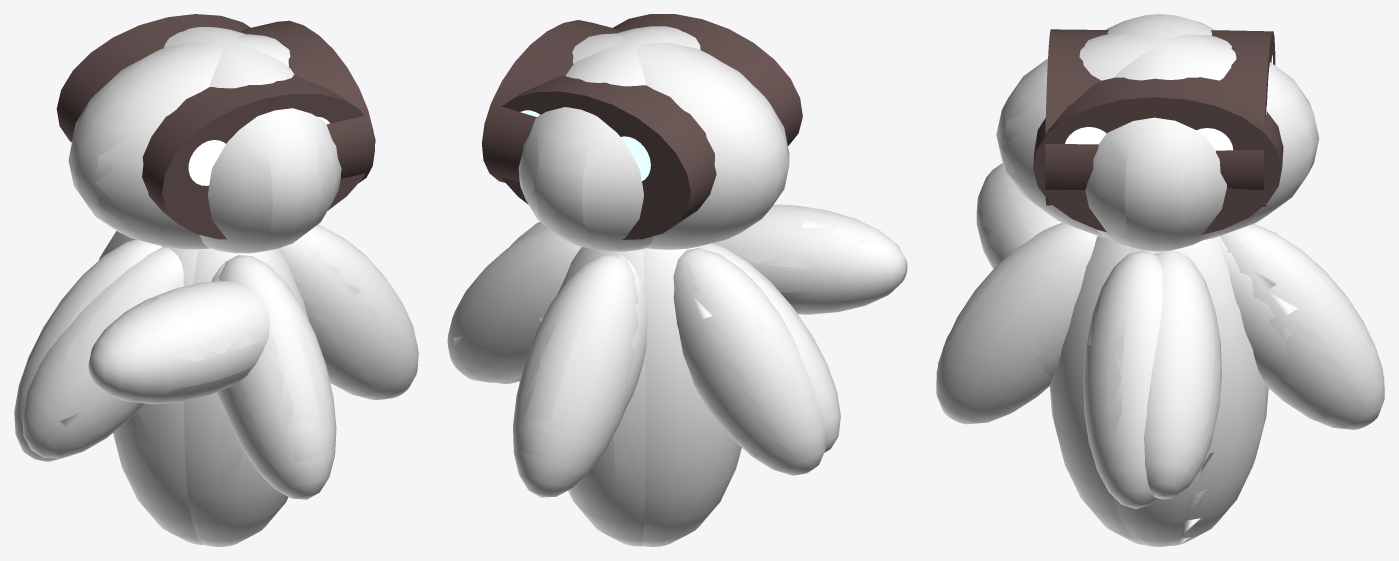
The model's file is Player.glb.
3 renders of one model, left to right at view 1: azimuth 30°, elevation 25°; view 2: azimuth 150°, elevation 25°; view 3: azimuth 270°, elevation 25°, orthographic. The views are drawn at different scales.
Visible parts, largest first — view 1: SketchUp.001, SketchUp.009, SketchUp.007, SketchUp.040, SketchUp.033, SketchUp.032, SketchUp.041, SketchUp.038, SketchUp.013, SketchUp.002, SketchUp.036, SketchUp.044 (+3 smaller); view 2: SketchUp.044, SketchUp.006, SketchUp.001, SketchUp.013, SketchUp.009, SketchUp.036, SketchUp.045, SketchUp.037, SketchUp.039, SketchUp.040, SketchUp.002, SketchUp.041 (+3 smaller); view 3: SketchUp.007, SketchUp.037, SketchUp.006, SketchUp.033, SketchUp.001, SketchUp.045, SketchUp.002, SketchUp.039, SketchUp.038, SketchUp.041, SketchUp.036, SketchUp.009 (+5 smaller).
Boxes of the visible parts, x1=… form: SketchUp.001: x1=164, y1=27, x2=341, y2=253; SketchUp.009: x1=88, y1=281, x2=270, y2=404; SketchUp.007: x1=219, y1=255, x2=336, y2=499; SketchUp.040: x1=69, y1=46, x2=288, y2=249; SketchUp.033: x1=278, y1=224, x2=418, y2=400; SketchUp.032: x1=22, y1=247, x2=183, y2=458; SketchUp.041: x1=142, y1=74, x2=375, y2=239; SketchUp.038: x1=184, y1=248, x2=308, y2=546; SketchUp.013: x1=113, y1=246, x2=204, y2=544; SketchUp.002: x1=239, y1=20, x2=374, y2=182; SketchUp.036: x1=56, y1=14, x2=250, y2=142; SketchUp.044: x1=14, y1=239, x2=161, y2=461; SketchUp.044: x1=673, y1=248, x2=825, y2=475; SketchUp.006: x1=513, y1=254, x2=638, y2=497; SketchUp.001: x1=518, y1=26, x2=700, y2=251; SketchUp.013: x1=642, y1=247, x2=741, y2=546; SketchUp.009: x1=713, y1=204, x2=907, y2=314; SketchUp.036: x1=501, y1=75, x2=716, y2=239; SketchUp.045: x1=447, y1=227, x2=581, y2=382; SketchUp.037: x1=572, y1=33, x2=759, y2=249; SketchUp.039: x1=558, y1=247, x2=645, y2=546; SketchUp.040: x1=611, y1=33, x2=789, y2=239; SketchUp.002: x1=481, y1=20, x2=621, y2=182; SketchUp.041: x1=613, y1=14, x2=802, y2=145; SketchUp.007: x1=936, y1=222, x2=1097, y2=424; SketchUp.037: x1=1085, y1=15, x2=1226, y2=251; SketchUp.006: x1=1220, y1=224, x2=1384, y2=429; SketchUp.033: x1=1083, y1=250, x2=1163, y2=508; SketchUp.001: x1=996, y1=33, x2=1319, y2=239; SketchUp.045: x1=1144, y1=250, x2=1221, y2=499; SketchUp.002: x1=1033, y1=77, x2=1283, y2=234; SketchUp.039: x1=1169, y1=236, x2=1268, y2=545; SketchUp.038: x1=1049, y1=236, x2=1144, y2=544; SketchUp.041: x1=1045, y1=29, x2=1108, y2=205; SketchUp.036: x1=1211, y1=30, x2=1275, y2=206; SketchUp.009: x1=976, y1=163, x2=1061, y2=268.
Size of the model in its own units: 0.4318 by 0.5331 by 0.4285.
